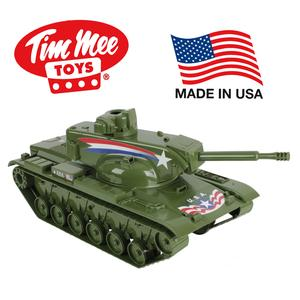Battle Tank: (8, 110, 290, 268)
